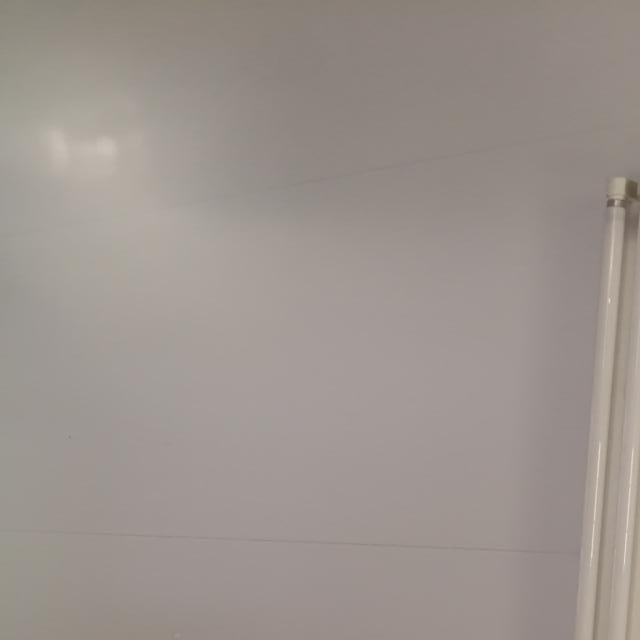fluorescent tube: (502, 134, 640, 640)
